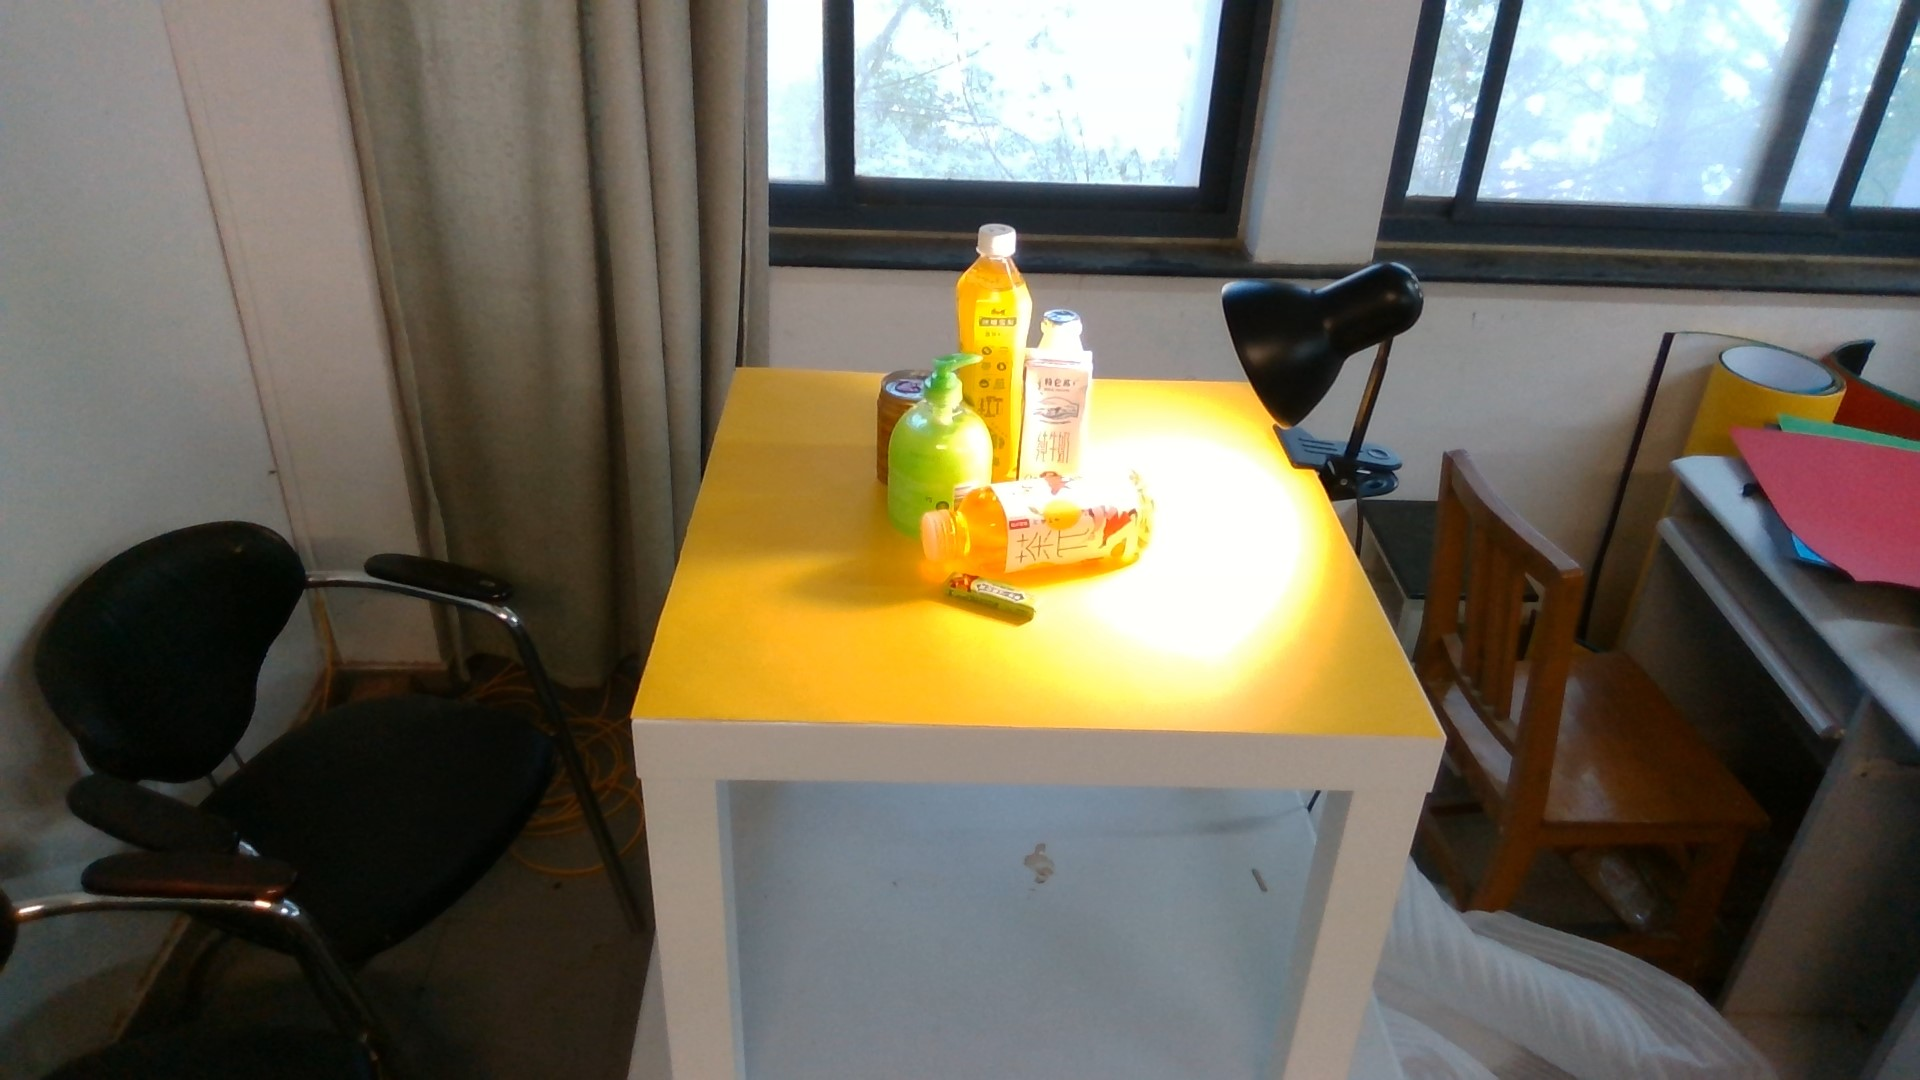BB002: (938, 574, 1044, 621)
BB010: (1025, 349, 1091, 473)
ZA002: (887, 400, 990, 484)
ZC004: (1038, 309, 1088, 345), (877, 369, 920, 404)
ZC011: (988, 222, 1022, 473)
ZC012: (920, 487, 1156, 574)
